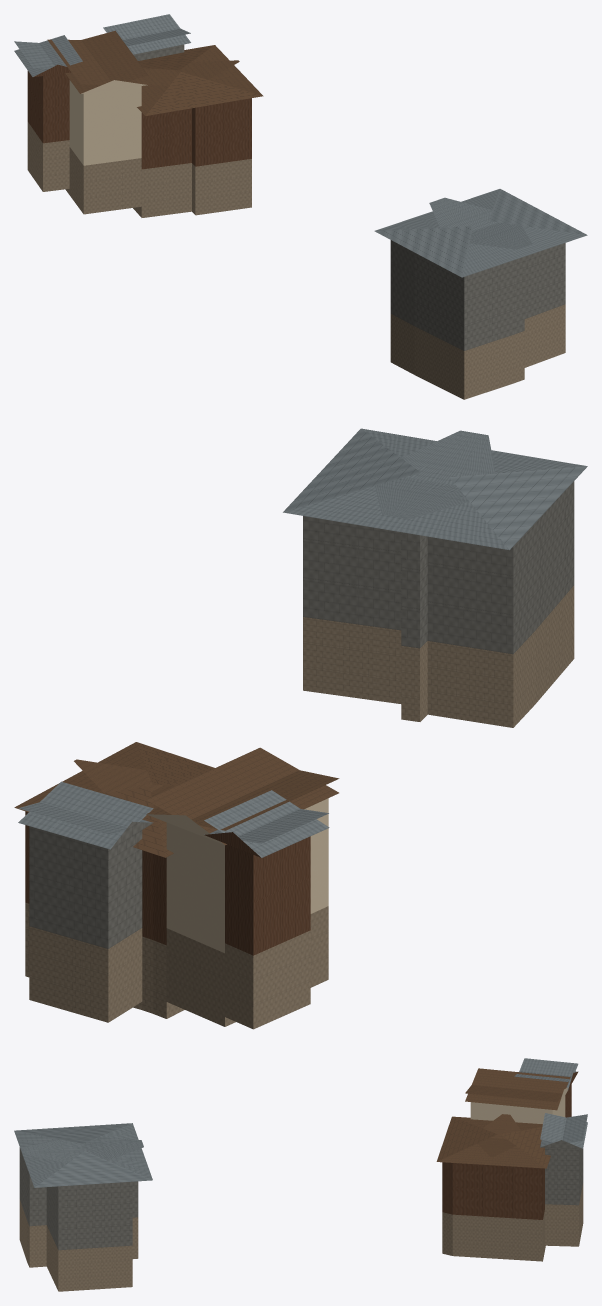
The model's file is bld_c3_17_462.gltf.
The picture shows the model from 3 angles, top to bottom: view 1: azimuth 30°, elevation 25°; view 2: azimuth 150°, elevation 25°; view 3: azimuth 270°, elevation 25°; orthographic projection. The views are drawn at different scales.
Visible parts, largest first — view 1: bld_c3_17_462; view 2: bld_c3_17_462; view 3: bld_c3_17_462.
Part boxes in pixels (x1,y1,x2,y2): bld_c3_17_462: (14,14,587,399); bld_c3_17_462: (14,428,587,1029); bld_c3_17_462: (14,1058,587,1291).
Size of the model in its own units: 29.3 by 15.5 by 64.
Materials: 9 (9 with a texture image).
